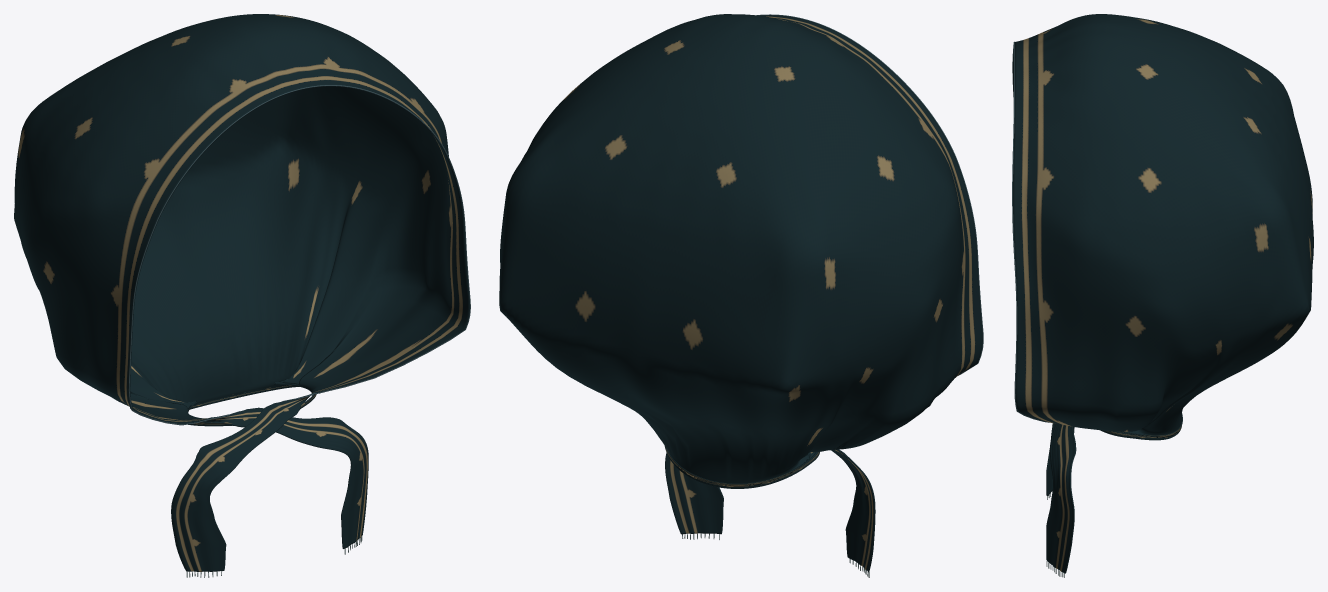
File: Masculine-flow-buttonup-pashmina249-headgear.glb
3 views of the same model, side by side, from view 1: azimuth 30°, elevation 25°; view 2: azimuth 150°, elevation 25°; view 3: azimuth 270°, elevation 25° (orthographic). The views are drawn at different scales.
Parts seen in each view (by area): view 1: 226 headgear / Headwear / continuous woven pashmina239, 226 headgear / Headwear / face edge239; view 2: 226 headgear / Headwear / continuous woven pashmina239, 226 headgear / Headwear / face edge239; view 3: 226 headgear / Headwear / continuous woven pashmina239, 226 headgear / Headwear / face edge239.
Part boxes in pixels (<box>): 226 headgear / Headwear / continuous woven pashmina239: <box>14,14,469,571</box>; 226 headgear / Headwear / face edge239: <box>128,85,470,425</box>; 226 headgear / Headwear / continuous woven pashmina239: <box>499,14,982,571</box>; 226 headgear / Headwear / face edge239: <box>757,14,983,375</box>; 226 headgear / Headwear / continuous woven pashmina239: <box>1013,14,1313,573</box>; 226 headgear / Headwear / face edge239: <box>1012,41,1048,422</box>.
Bounding box in the file's own units: 1.12 × 1.44 × 0.7747.
Materials: 3 (1 with a texture image).
